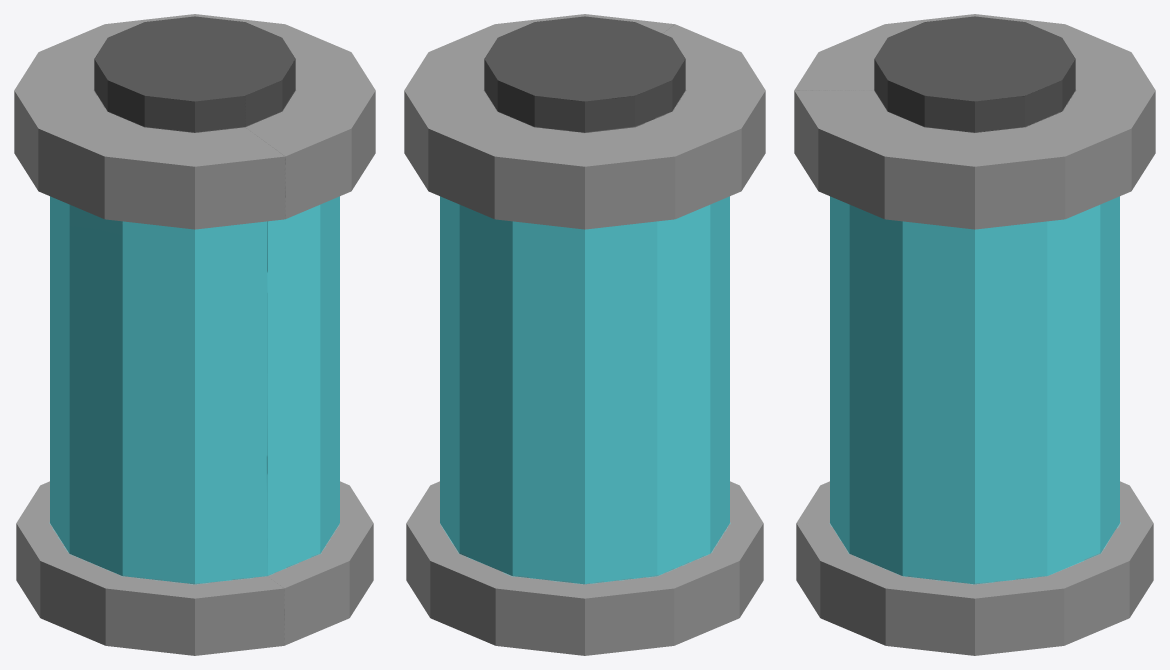
Rendered from Combustible.fbx.
3 renders of one model, left to right at view 1: azimuth 30°, elevation 25°; view 2: azimuth 150°, elevation 25°; view 3: azimuth 270°, elevation 25°, orthographic.
Visible parts, largest first — view 1: Cylinder; view 2: Cylinder; view 3: Cylinder.
Boxes of the visible parts, x1,y1,x2,y2 form: Cylinder: (14, 14, 375, 655); Cylinder: (404, 14, 765, 655); Cylinder: (794, 14, 1155, 655).
Bounding box in the file's own units: 177 × 298 × 177.
1 material, 1 textured.
